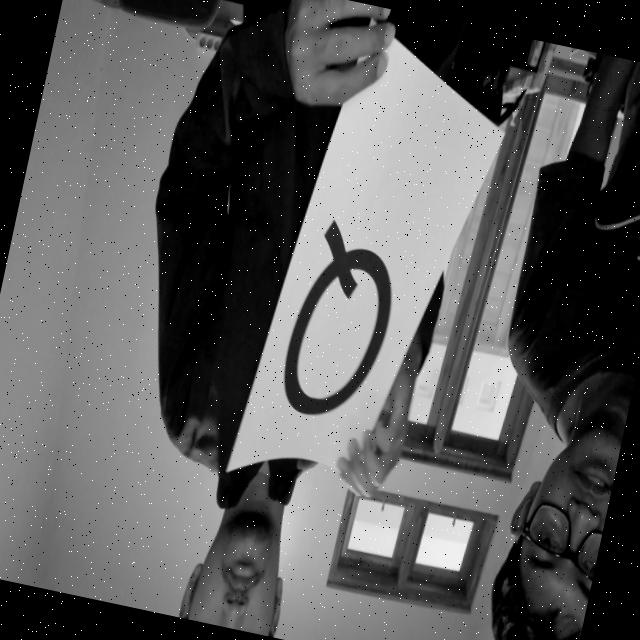q: (246, 174, 426, 446)
